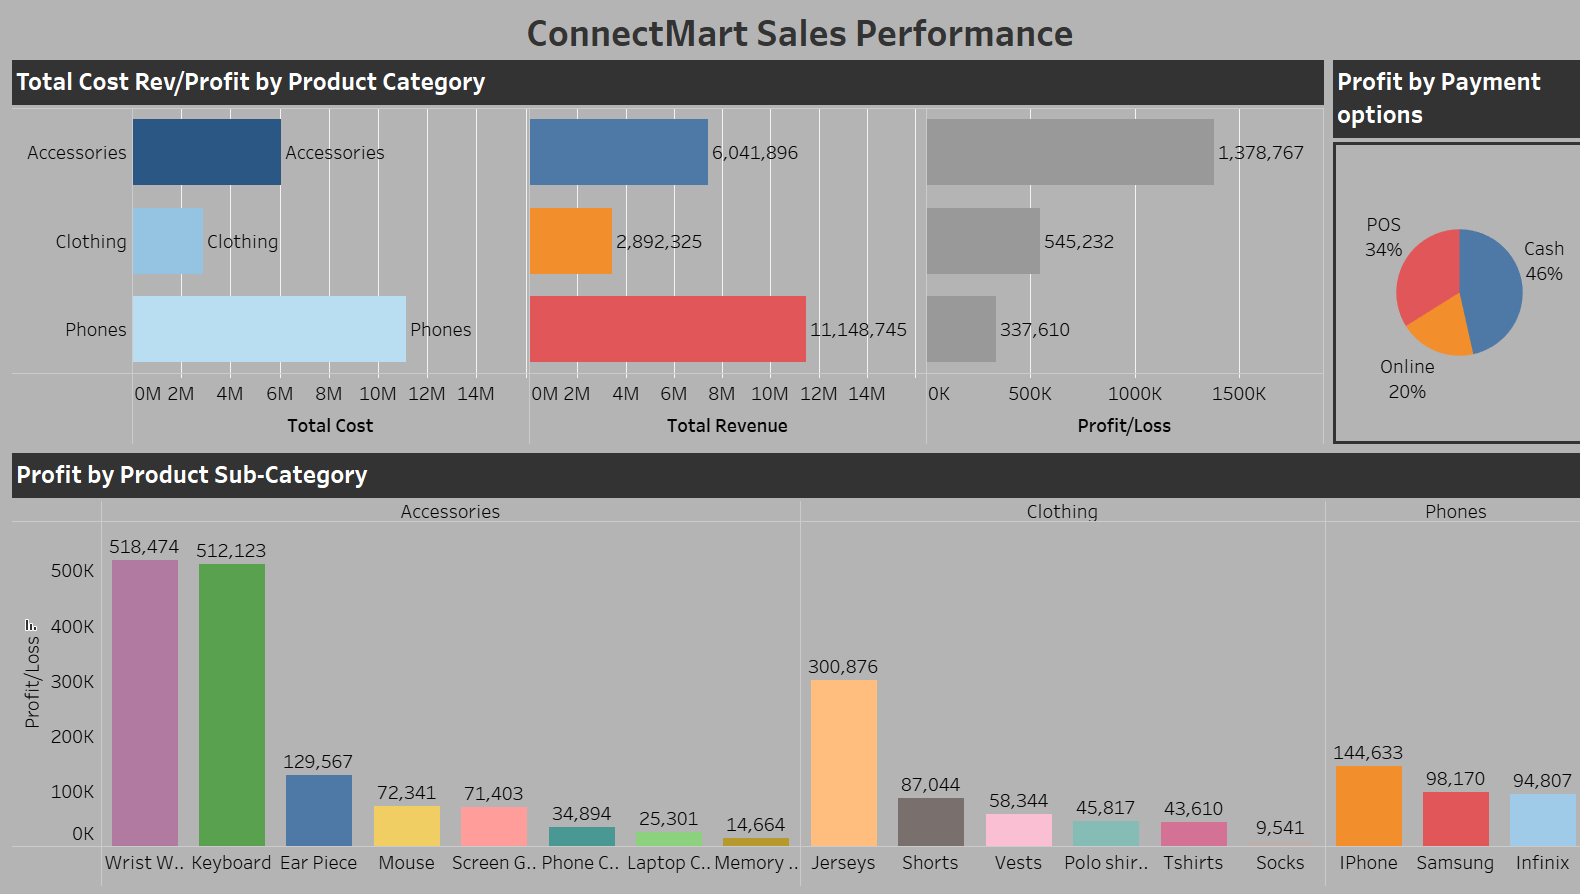

The dashboard page shown, as its layout file describes it:
{"tool":"tableau","page":{"name":"Sales Dashboard","canvas":[1600,900],"ordinal":2},"visuals":[{"type":"title","box":[8,8,1584,49]},{"type":"worksheet","title":"Total Cost Rev/Profit by Product Category","mark":"Automatic","rows":["Product_Category"],"cols":["Calculation_1608066588140519426","Calculation_1608066588141060099","Calculation_1608066588141301764"],"box":[8,57,1320,393]},{"type":"worksheet","title":"Profit by Payment options","mark":"Pie","box":[1328,57,264,393]},{"type":"worksheet","title":"Profit by Product Sub-Category","mark":"Automatic","rows":["Calculation_1608066588141301764"],"cols":["Product_Category","Sub_Category"],"box":[8,450,1584,442]}]}

Visuals, with their boxes in screenshot pixels (x1, y1, x2, y2), scaled from the page's 1600x900 canvas onto the 1580x894 screenshot:
title: bbox=(8, 8, 1572, 57)
"Total Cost Rev/Profit by Product Category" worksheet: bbox=(8, 57, 1311, 447)
"Profit by Payment options" worksheet (Pie marks): bbox=(1311, 57, 1572, 447)
"Profit by Product Sub-Category" worksheet: bbox=(8, 447, 1572, 886)
